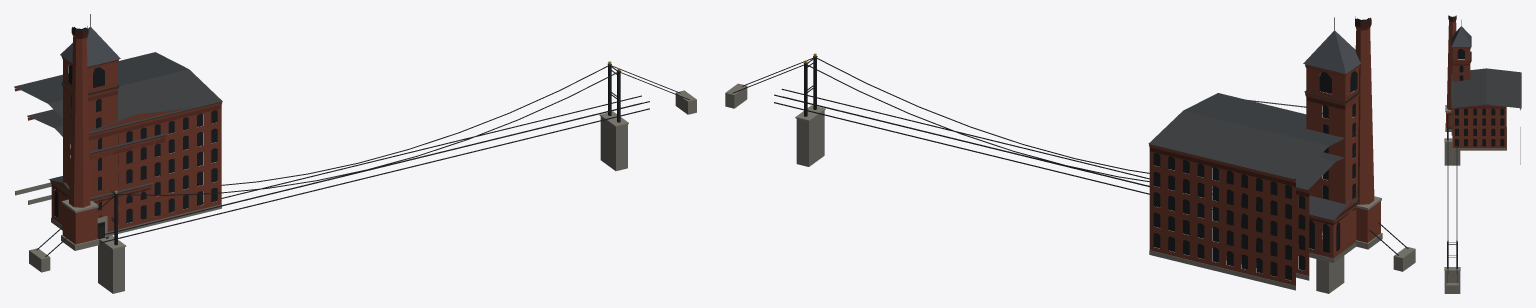
The model's file is riverfront_far.glb.
The picture shows the model from 3 angles, left to right: view 1: azimuth 30°, elevation 25°; view 2: azimuth 150°, elevation 25°; view 3: azimuth 270°, elevation 25°; orthographic projection. The views are drawn at different scales.
Parts seen in each view (by area): view 1: lw_sec_2, fb_2, lw_end_2, lw_tower_2, lw_ell_2, lw_stack_2, lw_boiler_2; view 2: lw_sec_2, lw_tower_2, fb_2, lw_stack_2, lw_boiler_2, lw_ell_2; view 3: lw_ell_2, lw_sec_2, fb_2, lw_tower_2, lw_stack_2.
Part boxes in pixels (x1,y1,x2,y2): lw_sec_2: (14,52,222,236); fb_2: (29,61,696,293); lw_end_2: (89,107,194,235); lw_tower_2: (60,14,120,238); lw_ell_2: (27,109,167,235); lw_stack_2: (61,26,99,250); lw_boiler_2: (48,163,153,235); lw_sec_2: (1148,93,1355,290); lw_tower_2: (1303,17,1360,252); fb_2: (725,53,1415,293); lw_stack_2: (1353,16,1382,249); lw_boiler_2: (1298,186,1359,262); lw_ell_2: (1226,151,1355,280); lw_ell_2: (1452,104,1506,150); lw_sec_2: (1451,68,1521,164); fb_2: (1444,112,1460,293); lw_tower_2: (1451,20,1471,135); lw_stack_2: (1445,15,1456,131).
Bounding box in the file's own units: 146 × 57.4 × 28.55.
